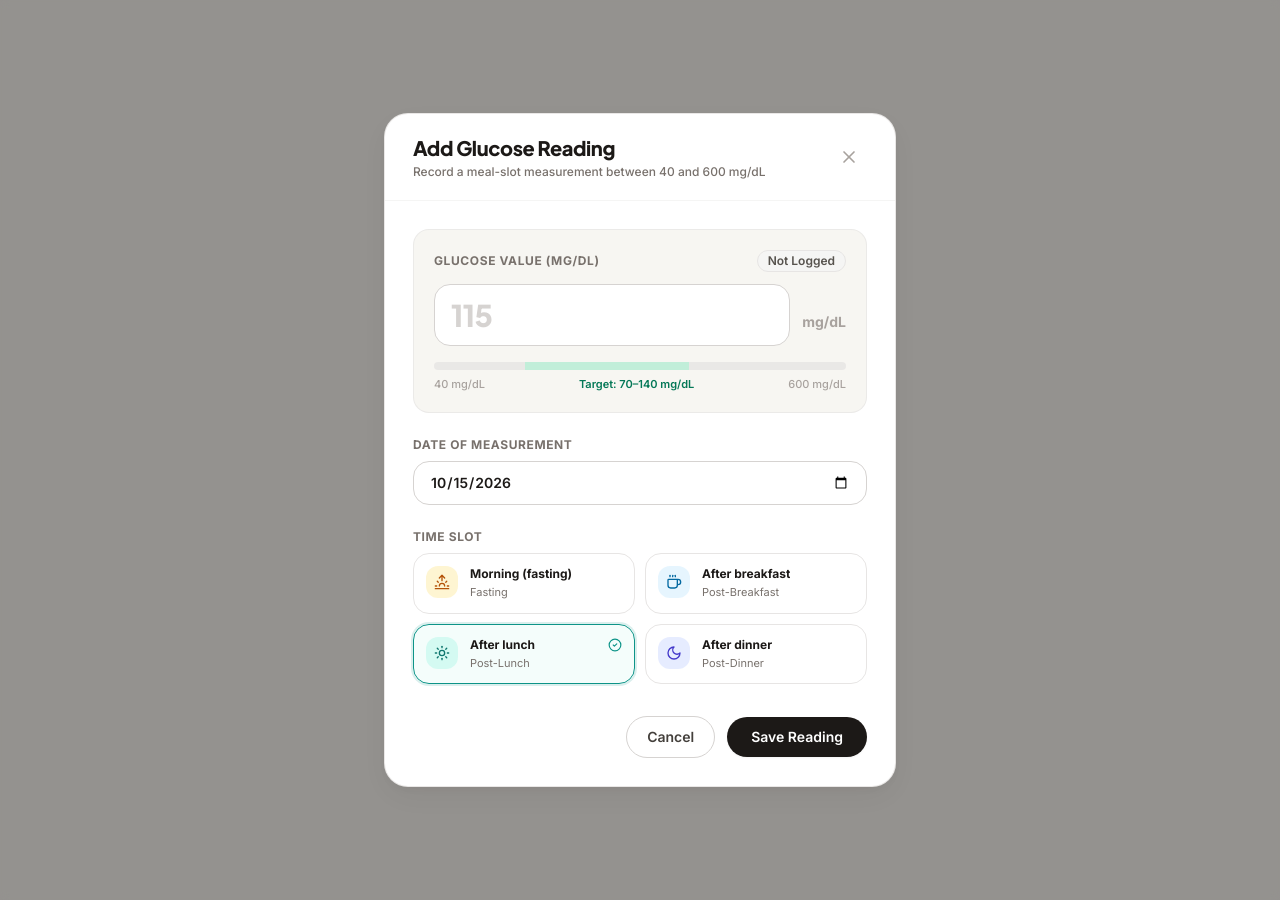
Test: ReadingFormModal Component Tests › 4. Displays API error message when backend rejects submission (e.g. BR-03 duplicate slot)
The image size is (1280, 900).
Type "150" into the field labelled "Glucose Value (mg/dL)". click: (612, 315)
box: [434,284,790,346]
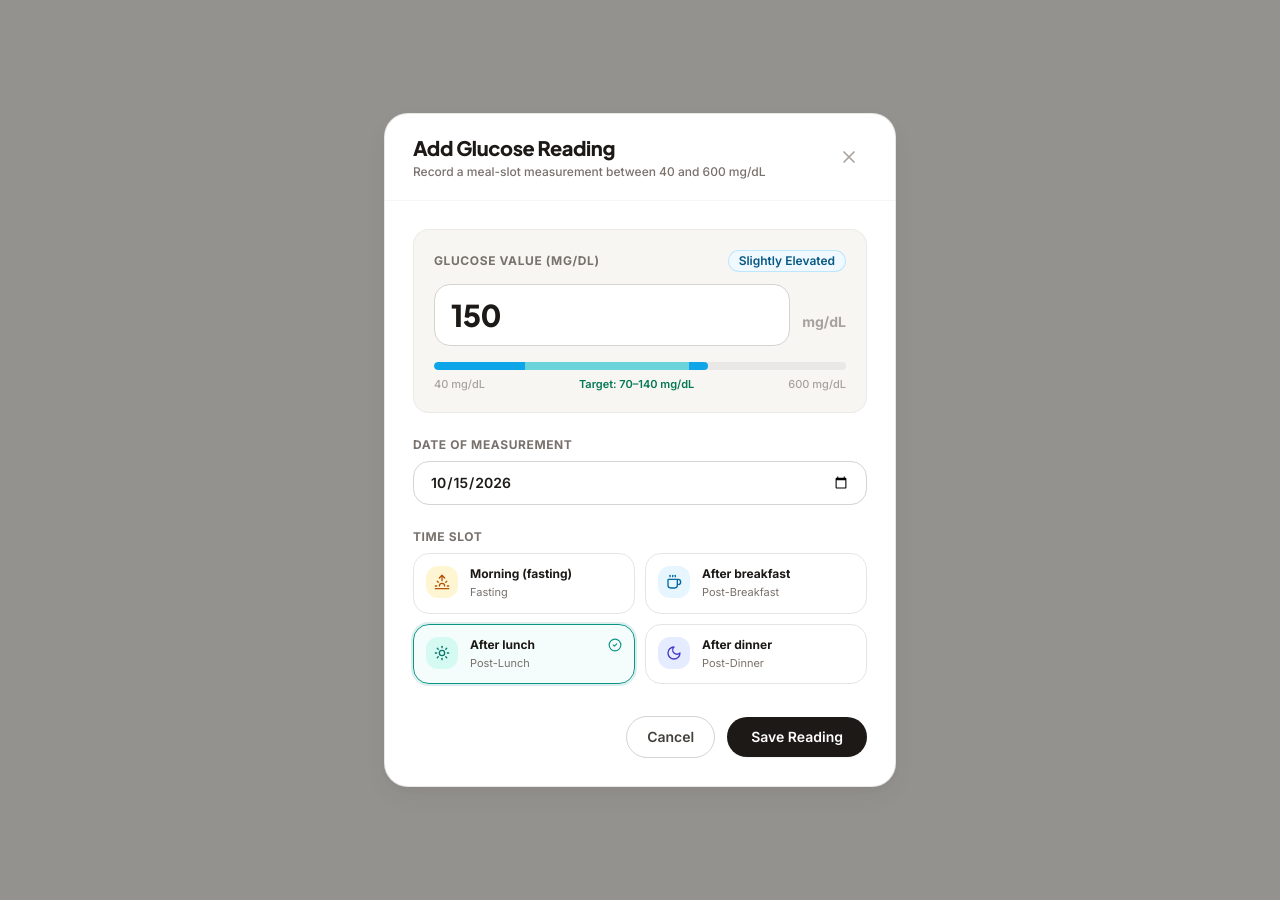
Click the button "Save Reading". click: click(797, 737)
box: [727,717,867,757]
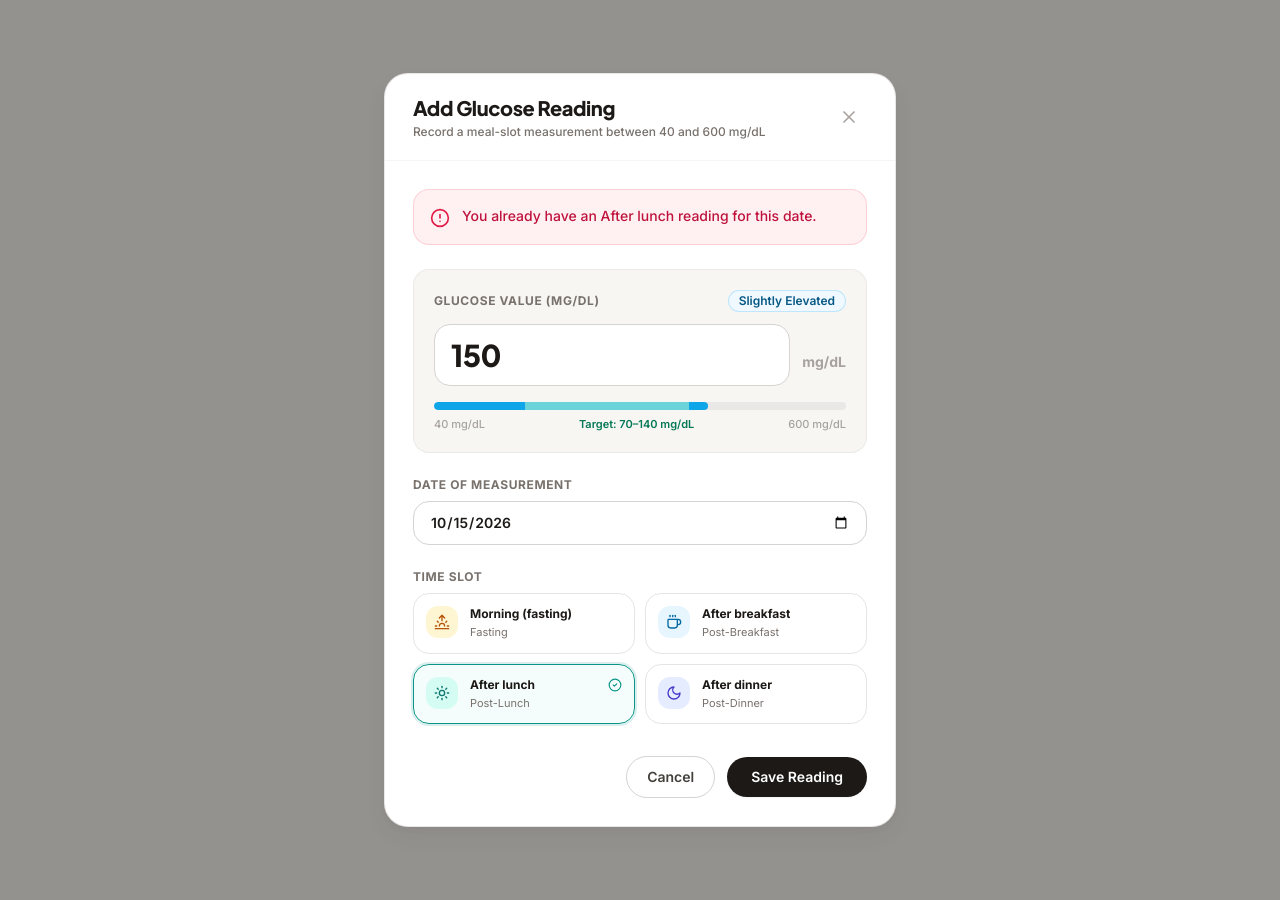
Expected: the message reads "You already have an After lunch reading for this date.", [462,207,817,224]
